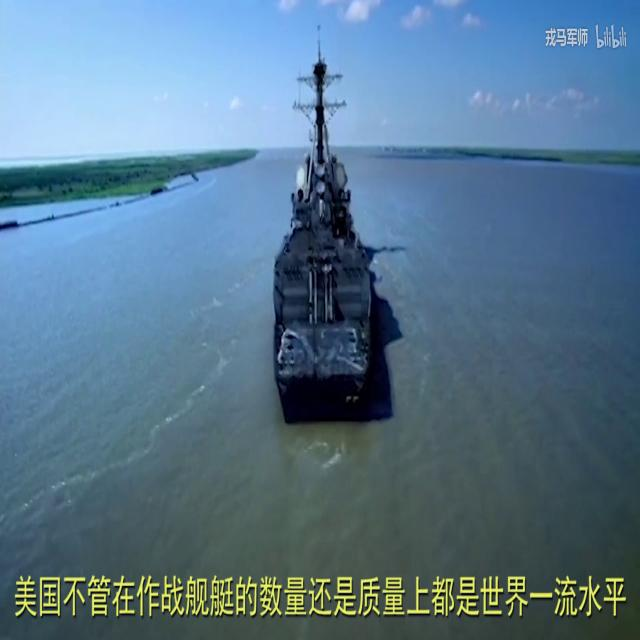navalvessels: (270, 24, 377, 403)
